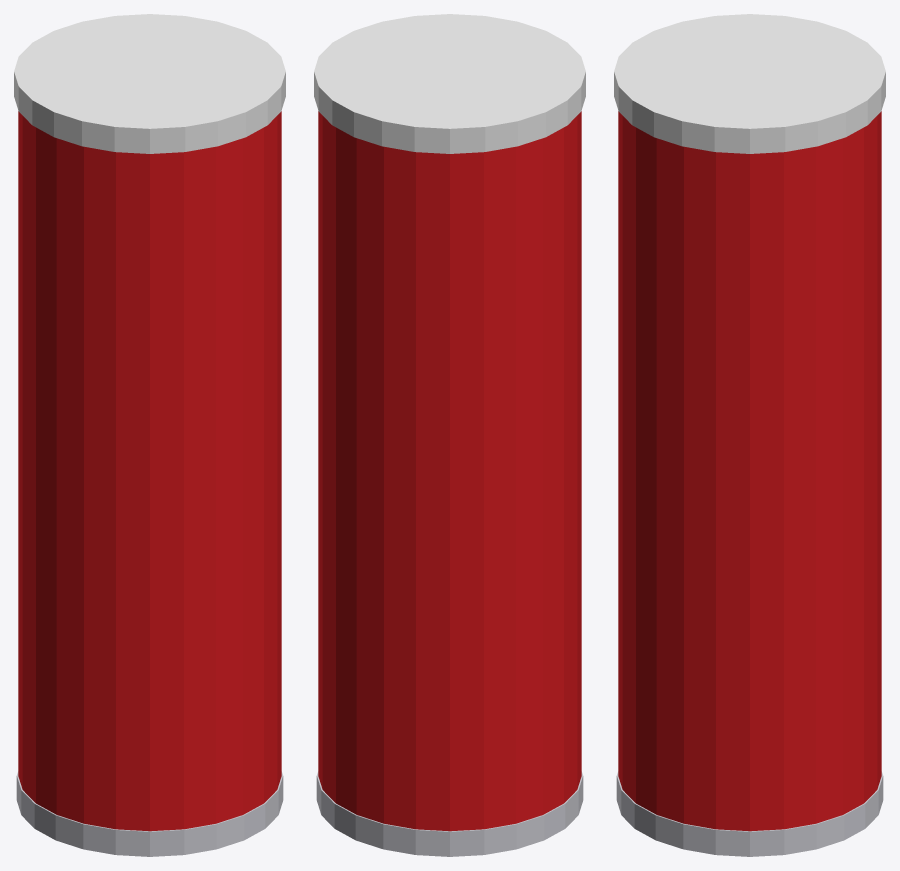
File: Grocery_Chips_Tube.obj
3 renders of one model, left to right at view 1: azimuth 30°, elevation 25°; view 2: azimuth 150°, elevation 25°; view 3: azimuth 270°, elevation 25°, orthographic.
Parts seen in each view (by area): view 1: Chips_Canister_Tube, Chips_Plastic_Lid, Chips_Tin_Base; view 2: Chips_Canister_Tube, Chips_Plastic_Lid, Chips_Tin_Base; view 3: Chips_Canister_Tube, Chips_Plastic_Lid, Chips_Tin_Base.
Part boxes in pixels (left/top/right/bottom): Chips_Canister_Tube: left=18, top=111, right=281, bottom=831; Chips_Plastic_Lid: left=14, top=14, right=285, bottom=153; Chips_Tin_Base: left=16, top=771, right=283, bottom=856; Chips_Canister_Tube: left=318, top=111, right=581, bottom=831; Chips_Plastic_Lid: left=314, top=14, right=585, bottom=153; Chips_Tin_Base: left=316, top=771, right=583, bottom=856; Chips_Canister_Tube: left=618, top=111, right=881, bottom=831; Chips_Plastic_Lid: left=614, top=14, right=885, bottom=153; Chips_Tin_Base: left=616, top=771, right=883, bottom=856.
Bounding box in the file's own units: 0.0784 × 0.232 × 0.0784.
